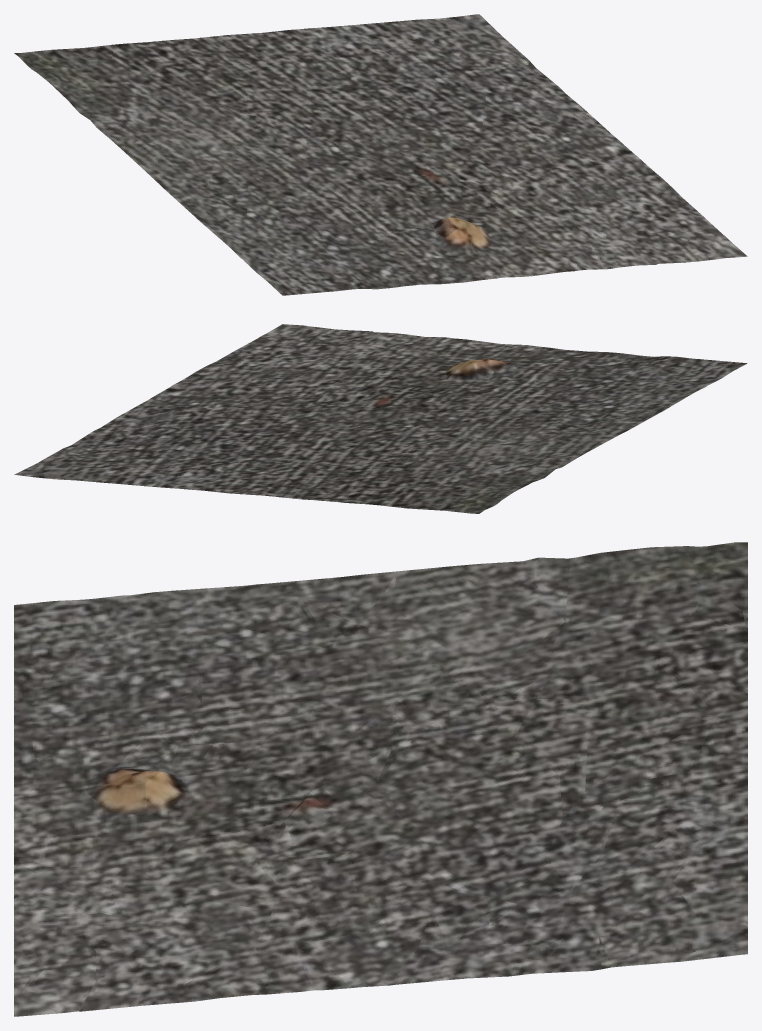
The picture shows the model from 3 angles, top to bottom: view 1: azimuth 30°, elevation 25°; view 2: azimuth 150°, elevation 25°; view 3: azimuth 270°, elevation 25°; orthographic projection. The views are drawn at different scales.
Size of the model in its own units: 0.8374 by 0.2069 by 0.8374.
Materials: 3 (3 with a texture image).
